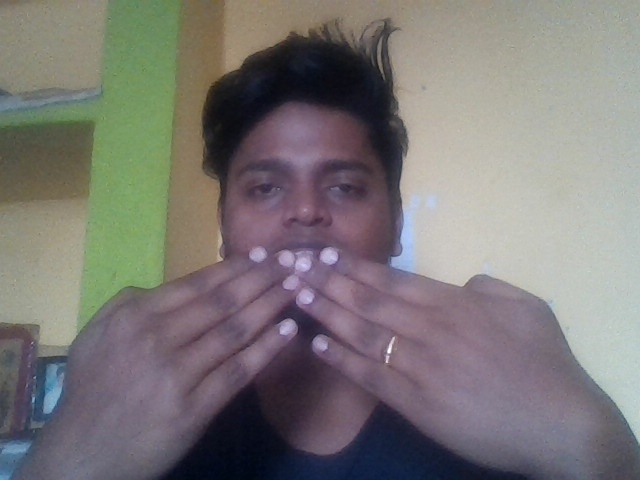thanks: (42, 235, 635, 480)
